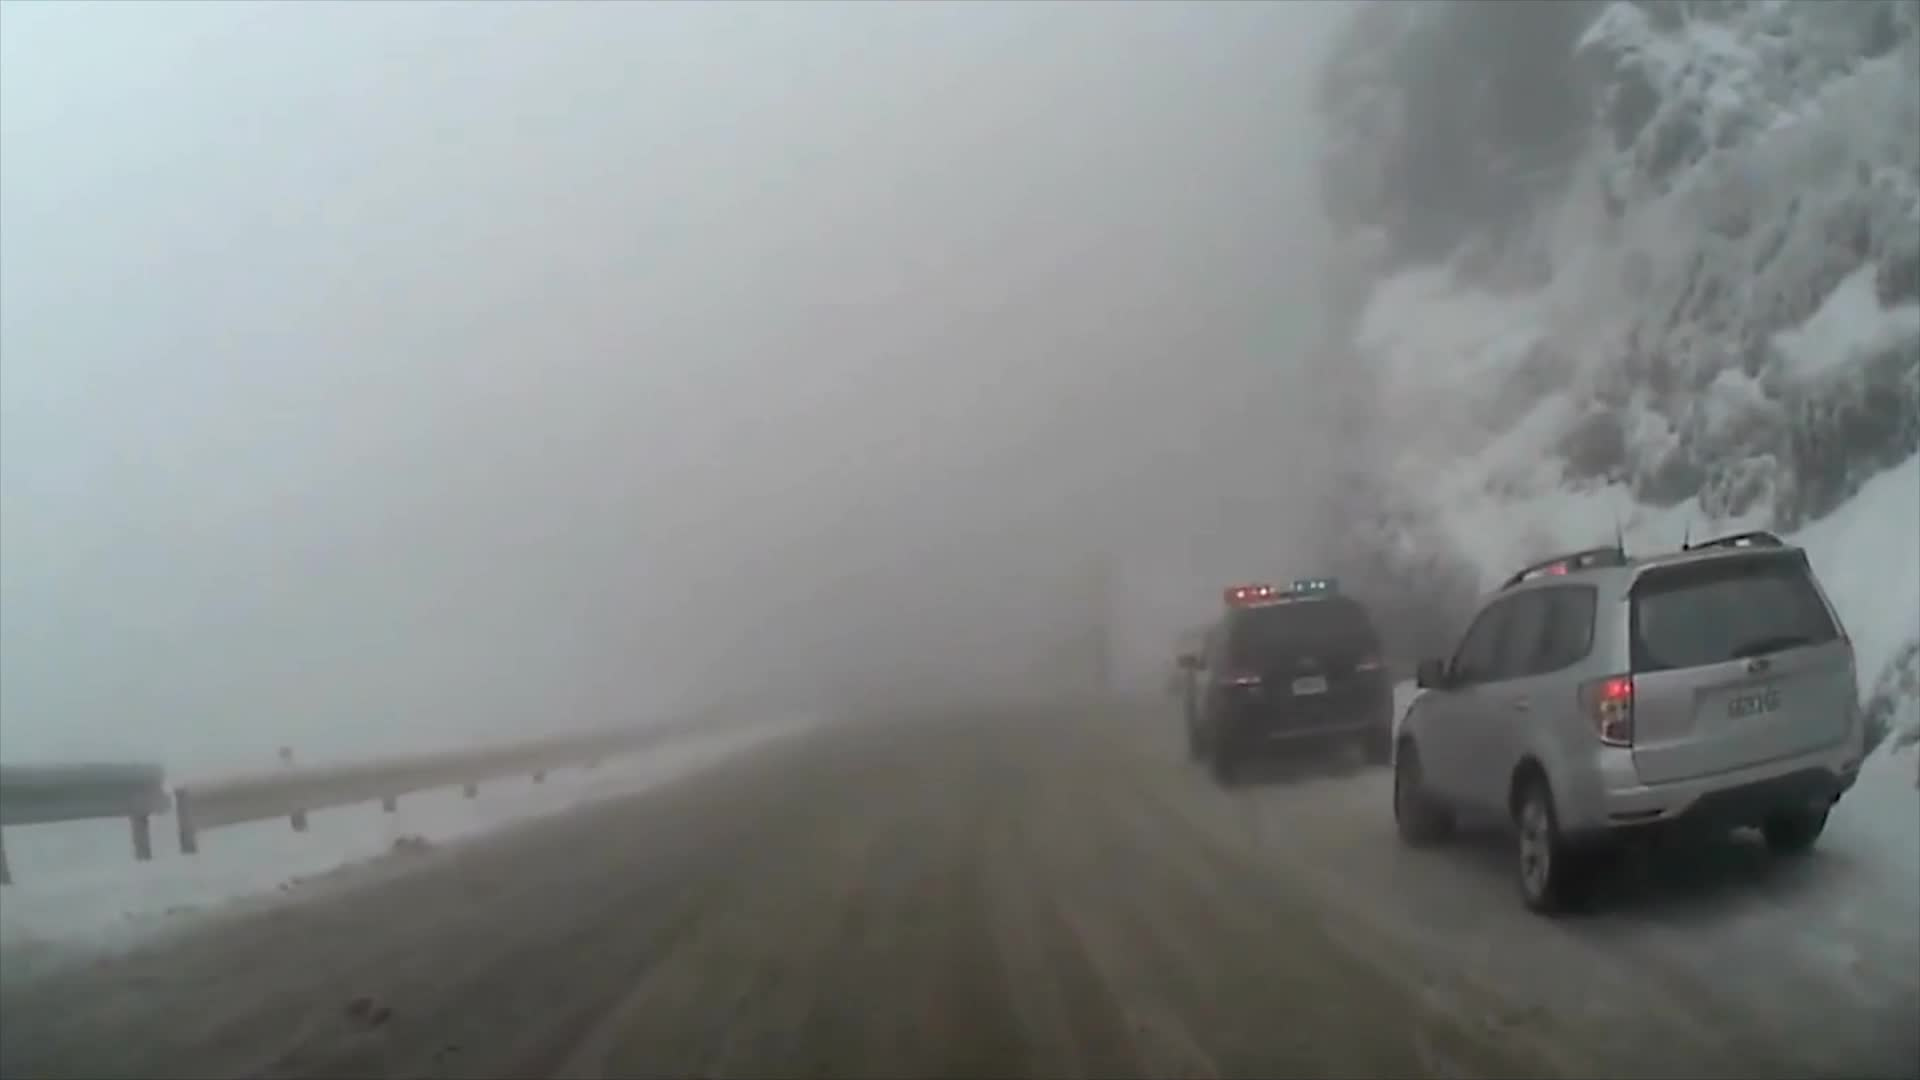vehicle: (1391, 526, 1869, 915), (1171, 578, 1391, 789)
